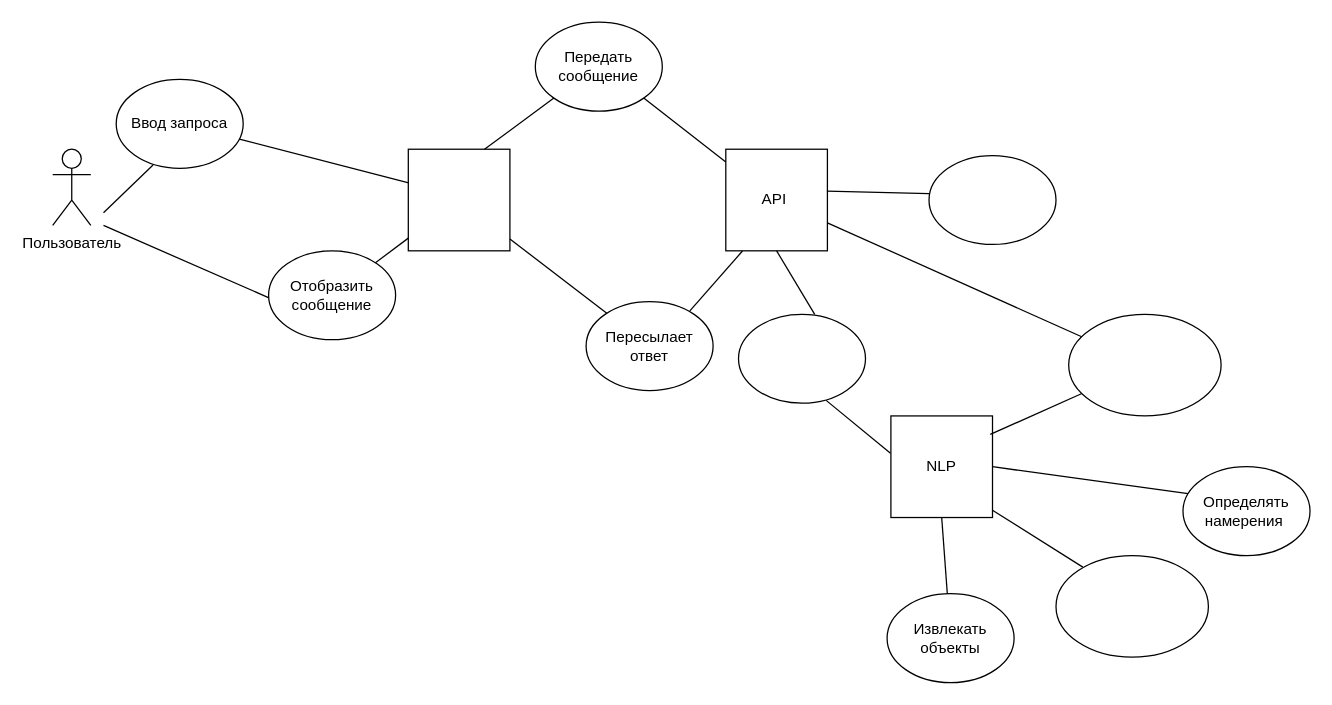
Image size: 1332x705. Some labels were removed from this diagram. Here are the shapes that lost their labels. From the top down, the centre of each, then its label:
(458,199): Канал обмена сообщений
(992,199): Формировать полное сообщение
(801,358): Переслать сообщение для обработки
(1144,364): Передавать извлеченные сущности и намерения
(1131,605): Классифицировать намерения
